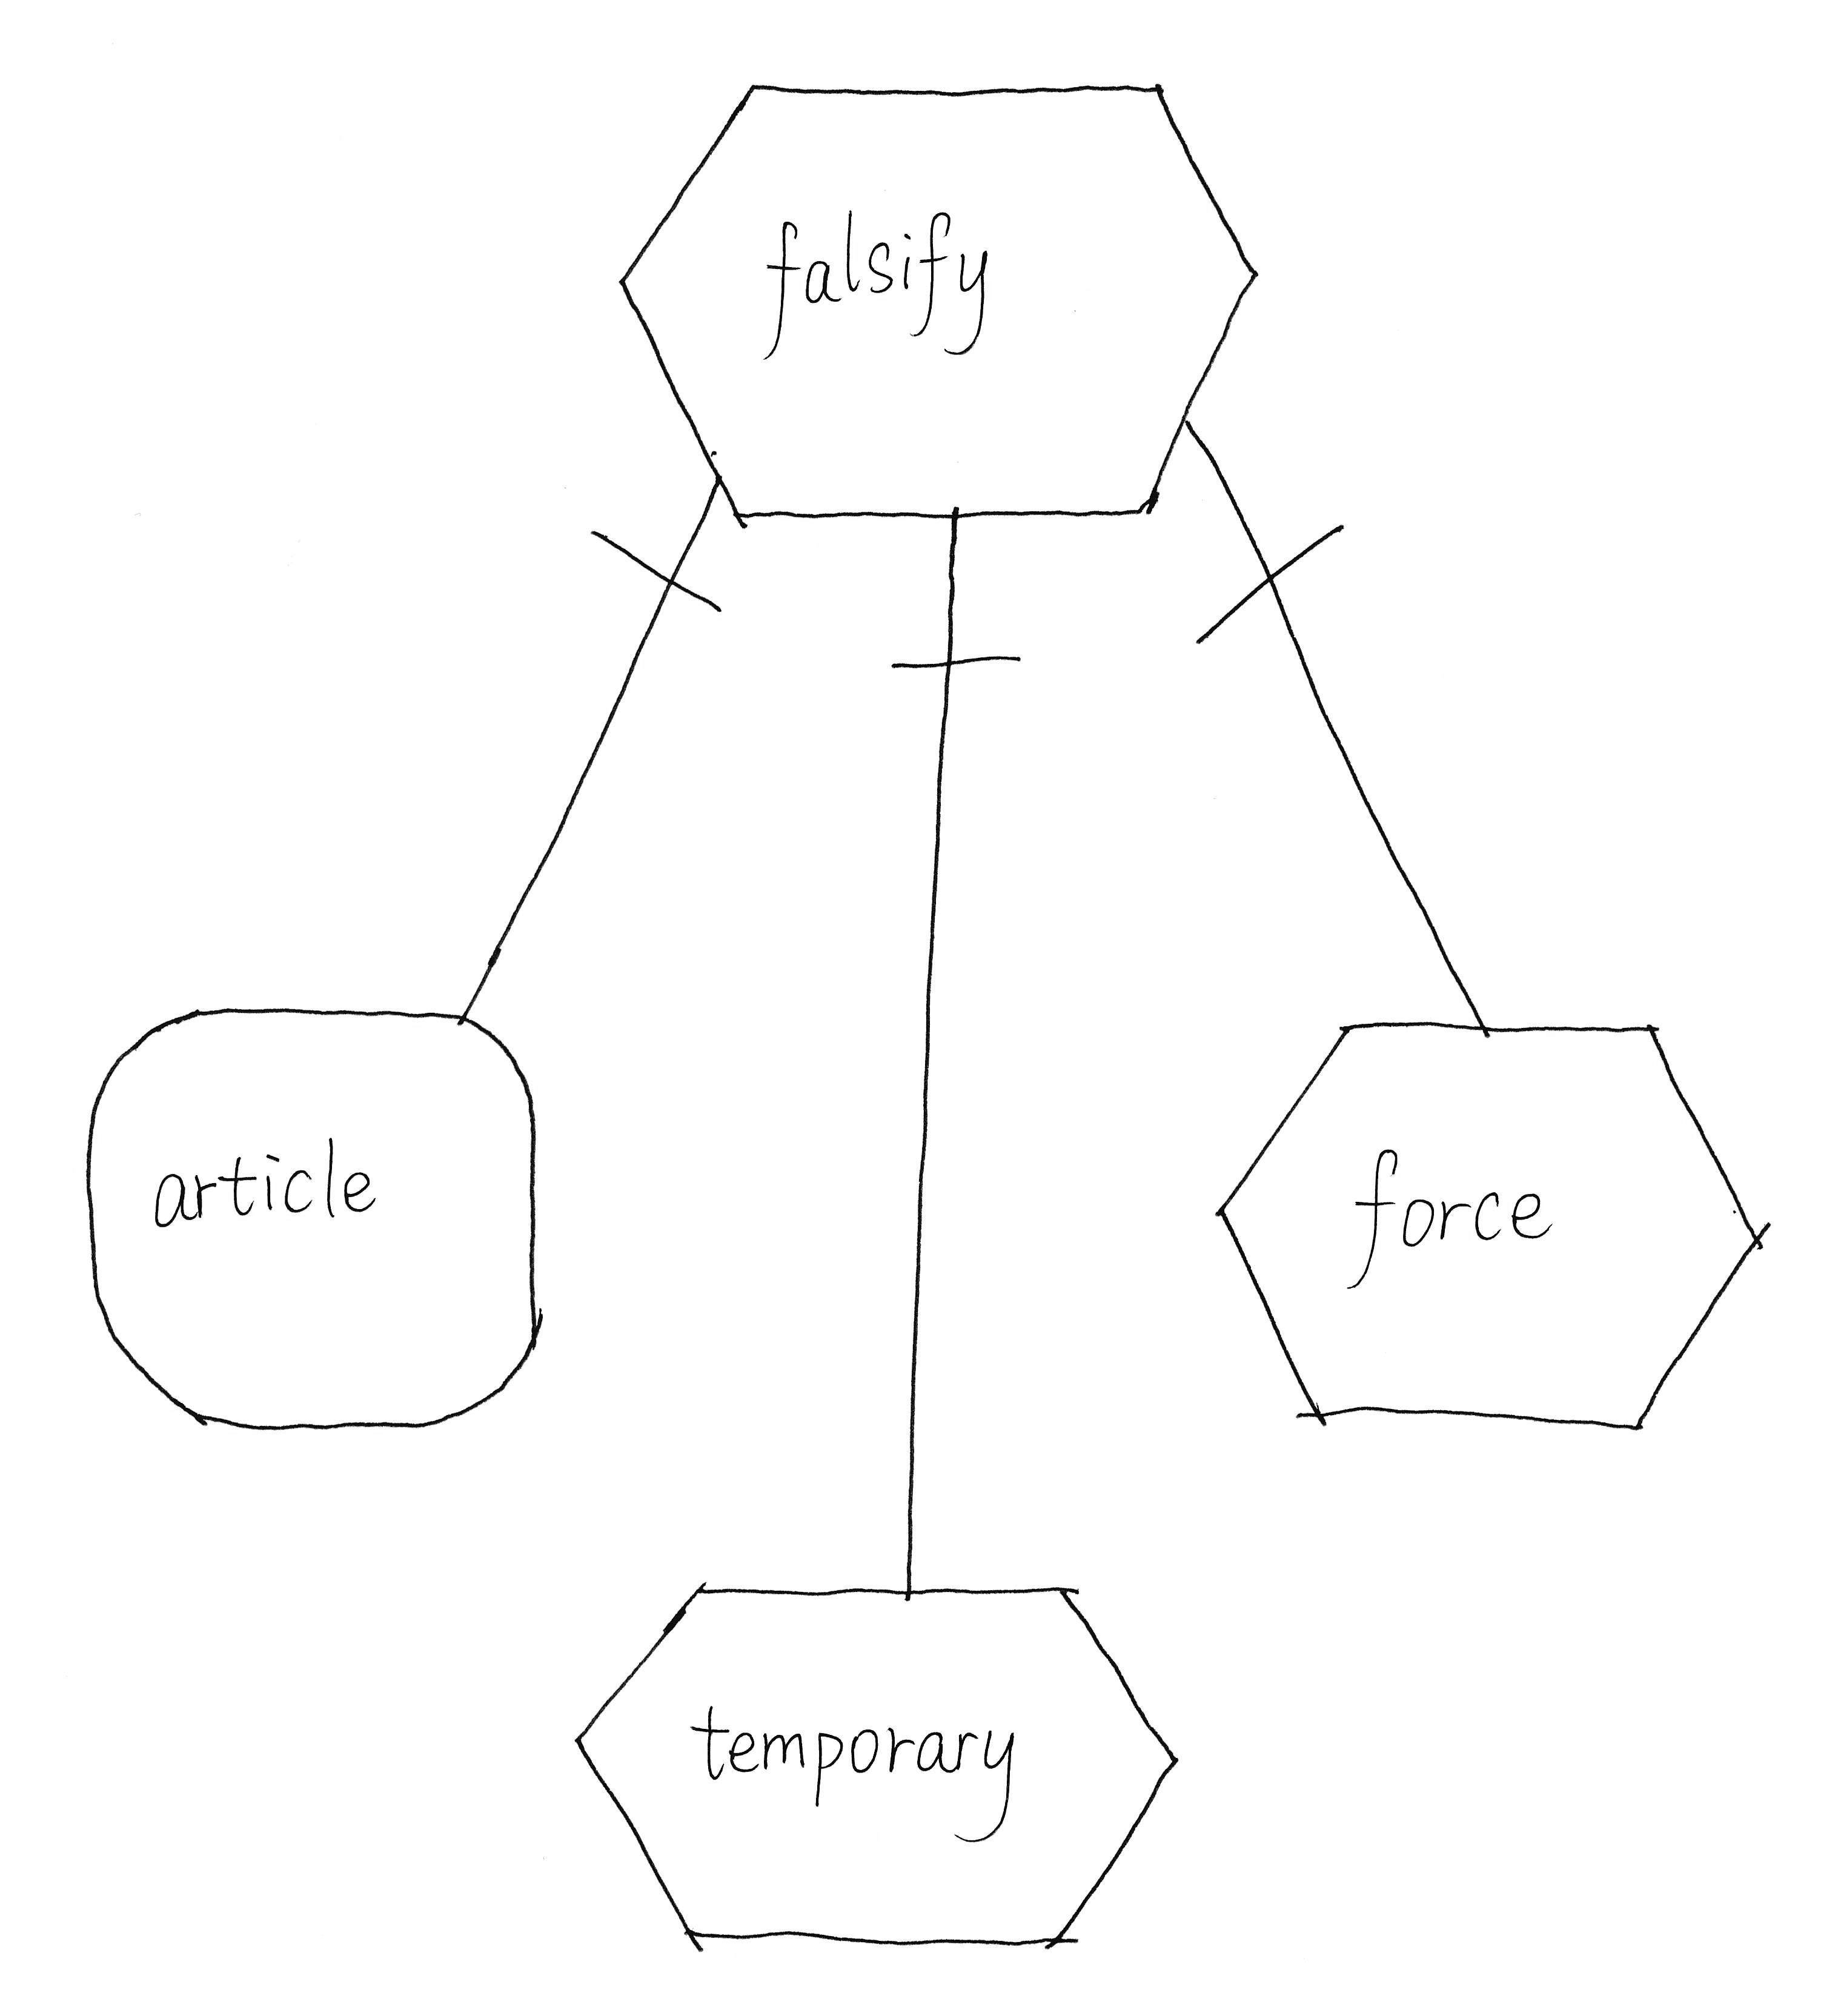and: (1162, 400, 1366, 662), (874, 495, 1029, 701), (590, 462, 737, 639)
goal: (63, 982, 571, 1466)
task: (597, 58, 1273, 558), (1183, 982, 1801, 1465), (548, 1547, 1217, 1983)
